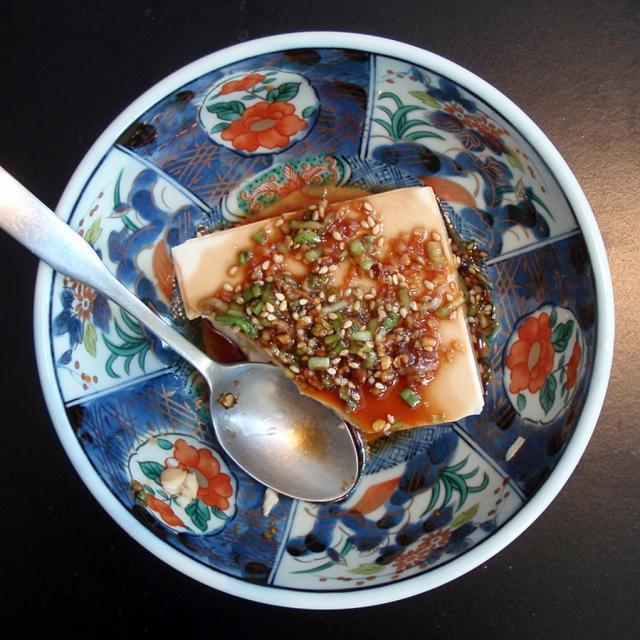ceramic plate: (36, 28, 616, 621)
